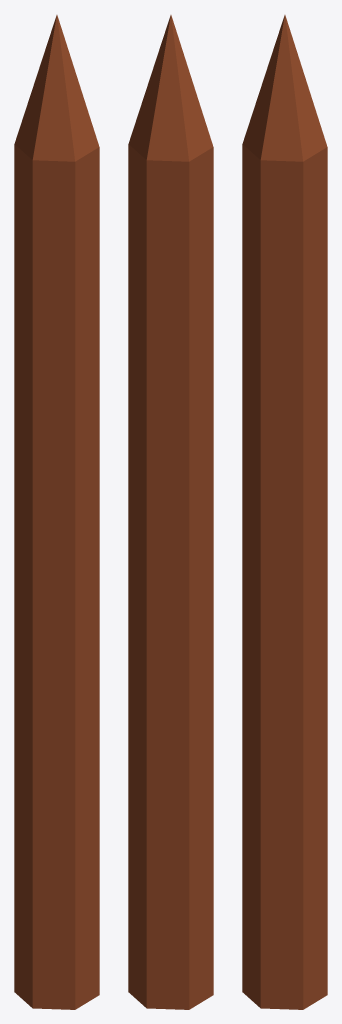
Rendered from Prop_Timber_Spike_01.FBX.
3 views of the same model, side by side, from view 1: azimuth 90°, elevation 25°; view 2: azimuth 150°, elevation 25°; view 3: azimuth 270°, elevation 25° (orthographic).
Parts seen in each view (by area): view 1: Prop_Timber_Spike_01; view 2: Prop_Timber_Spike_01; view 3: Prop_Timber_Spike_01.
Boxes of the visible parts, box(x1,y1,x2,y2) form: Prop_Timber_Spike_01: box(14, 15, 99, 1009); Prop_Timber_Spike_01: box(128, 15, 213, 1009); Prop_Timber_Spike_01: box(242, 15, 327, 1009).
Bounding box in the file's own units: 157 × 2197 × 173.
